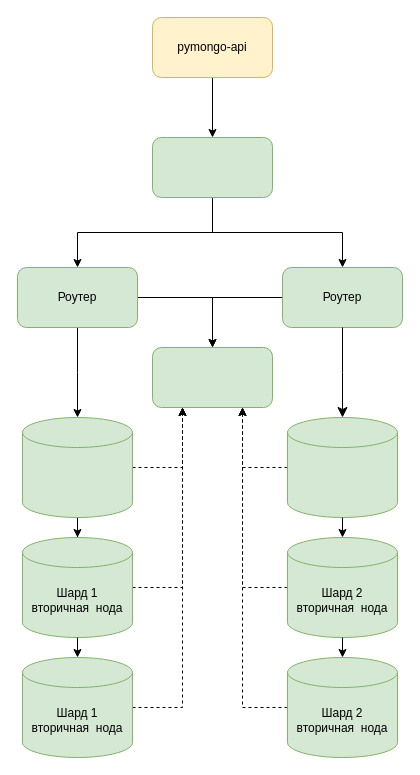
This 420x775 diagram has some shape labels left out. The centre of each missing label's shape, as x and y in pixels:
"Драйвер" belongs at point (212, 167).
"Конфигурационный сервер" belongs at point (212, 377).
"Шард 1 первичная нода" belongs at point (77, 467).
"Шард 2 первичная нода" belongs at point (342, 467).
